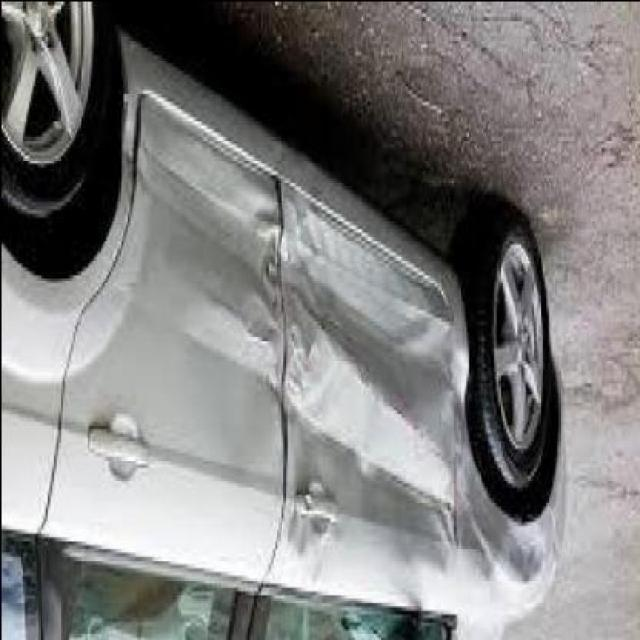damage: (100, 80, 557, 604)
